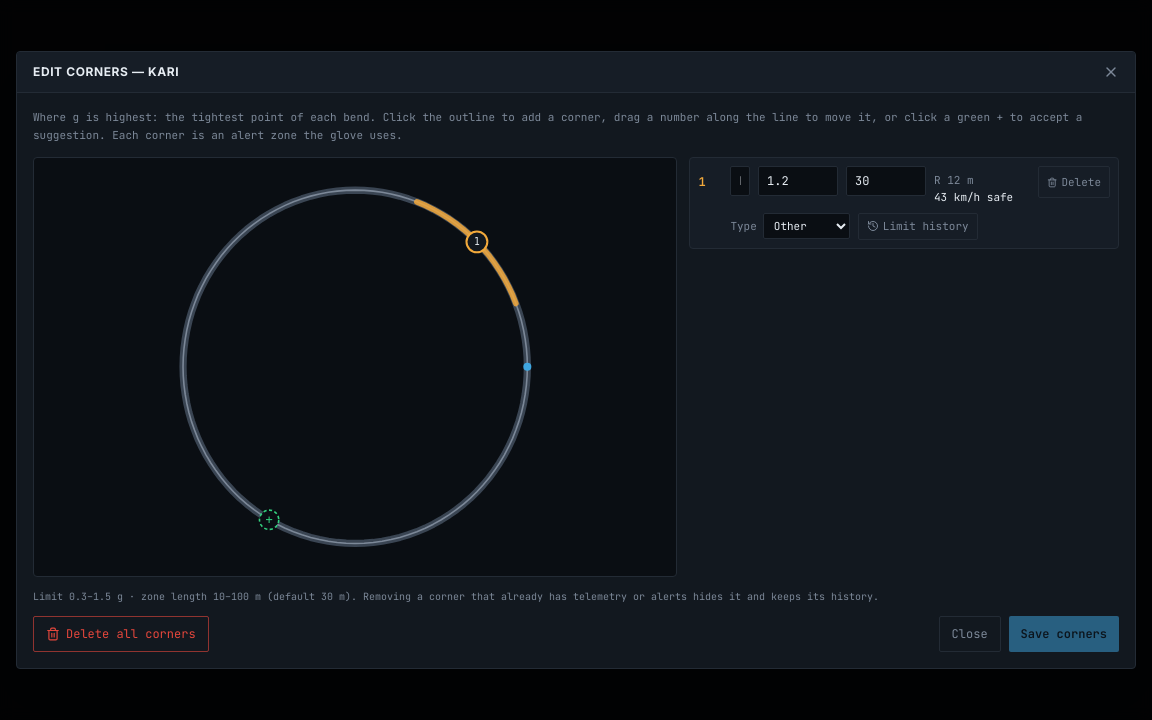
Test: CornerEditorDialog (editable map) › shows the markers with radius and the safe corner speed at the current limit
Expected: the element with test id "corner-marker-table" is shown, [689,157,1119,249]
Expected: the element with test id "marker-hint-1" shows "R 12 m", [934,173,974,187]
Replace the text in the field with test id "marker-limit-1" with "1.5" at (798, 181), box [758,166,838,196]
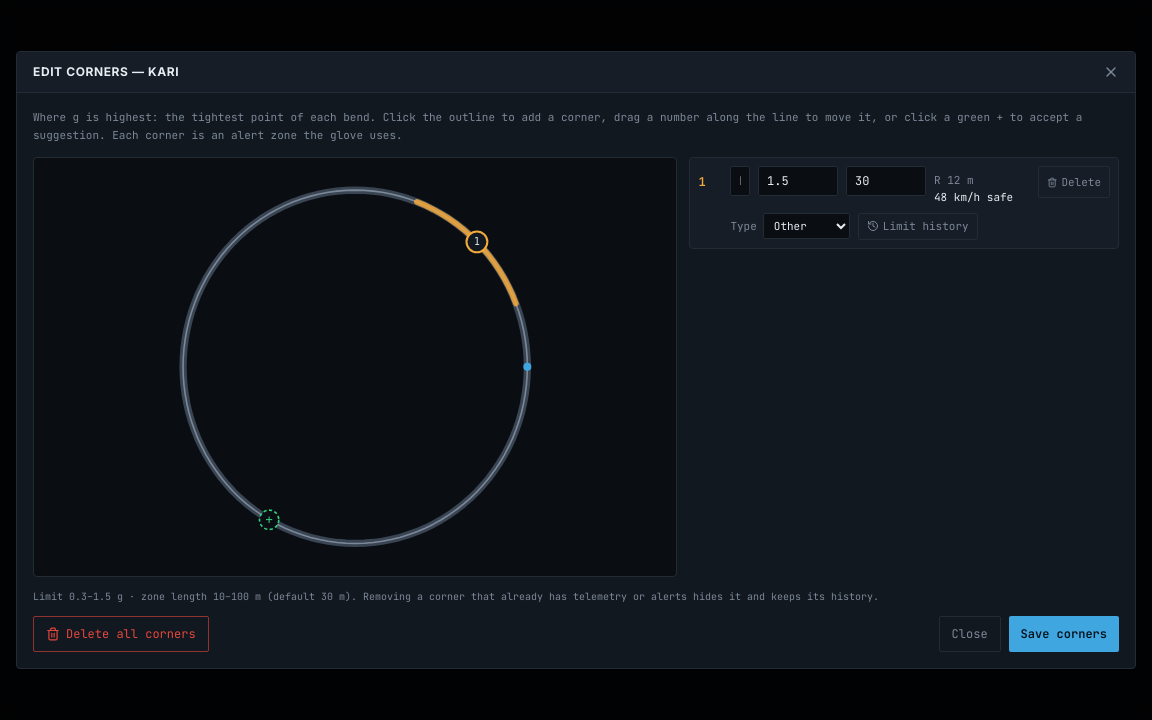
Expected: the element with test id "marker-hint-1" shows "48 km/h safe", [934,173,1013,204]
